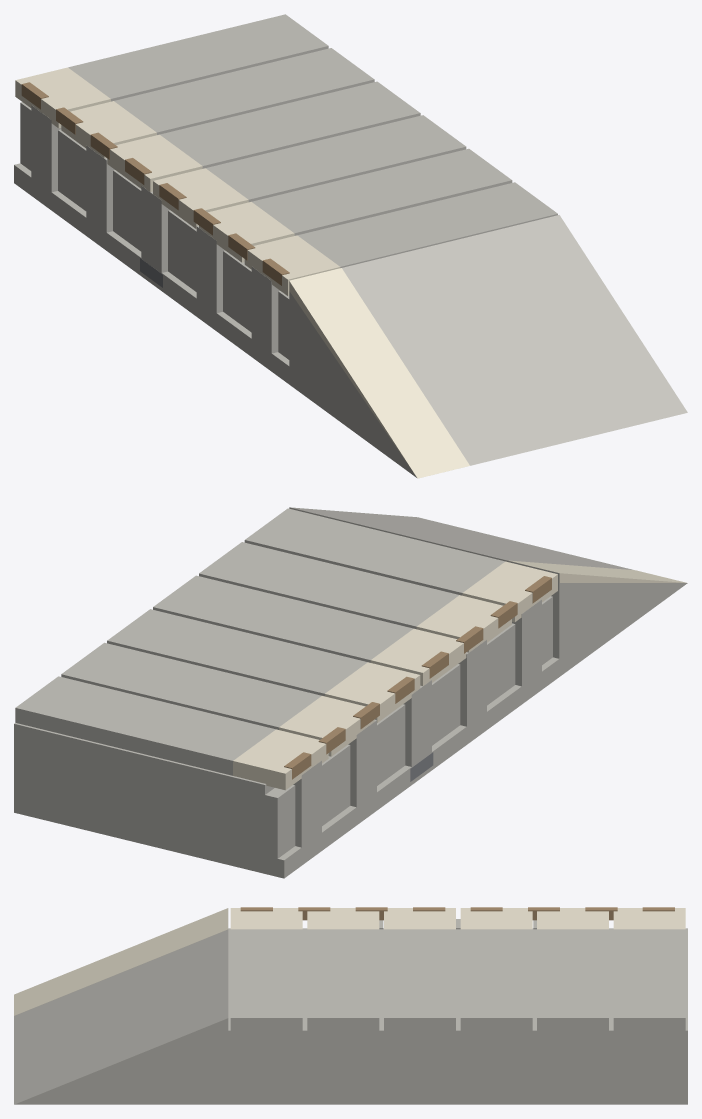
Rendered from steam-era-railway-and-rolling-stock-platform-module-ra-293fc360__14773.glb.
3 views of the same model, one above another, from view 1: azimuth 30°, elevation 25°; view 2: azimuth 150°, elevation 25°; view 3: azimuth 270°, elevation 25° (orthographic). The views are drawn at different scales.
Parts seen in each view (by area): view 1: platform-module-ramp; view 2: platform-module-ramp; view 3: platform-module-ramp.
Part boxes in pixels (bbox=[...]): platform-module-ramp: bbox=[14, 14, 687, 478]; platform-module-ramp: bbox=[14, 507, 687, 878]; platform-module-ramp: bbox=[14, 907, 687, 1104].
Bounding box in the file's own units: 3.4 × 1.26 × 8.8.
